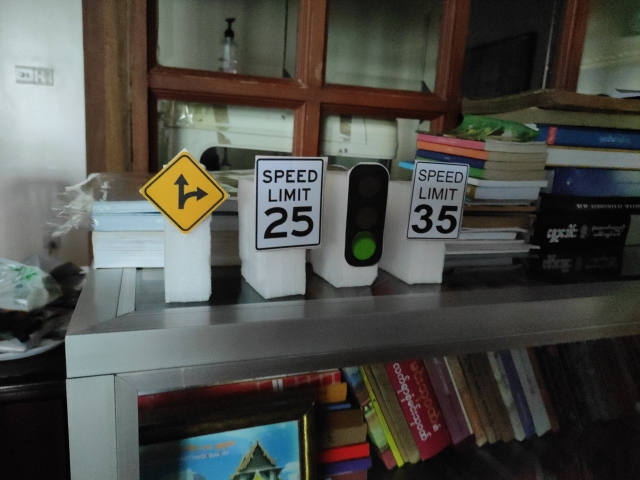Green Traffic Light: (343, 163, 390, 267)
Speed Limit 25: (255, 154, 326, 250)
Speed Limit 35: (406, 160, 470, 241)
Straight Or Right Sign: (142, 151, 226, 234)
